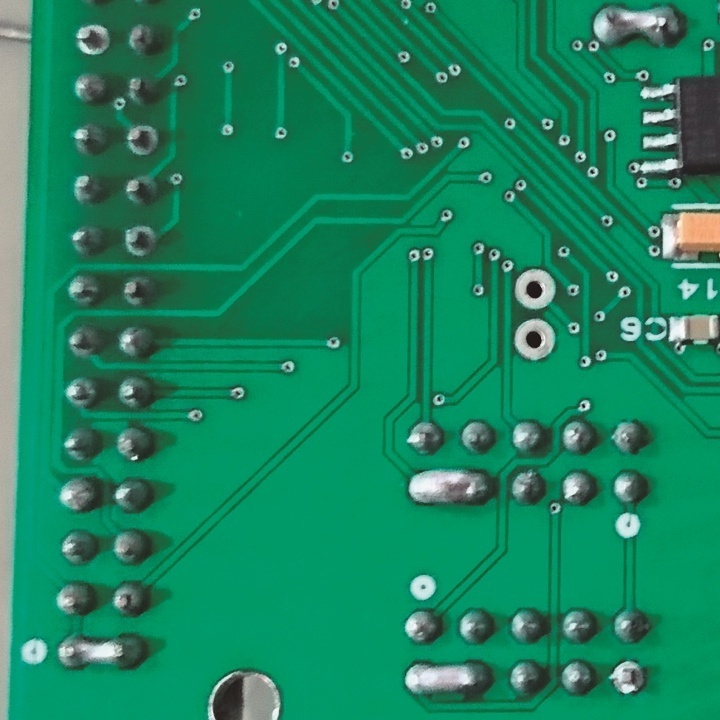F: (510, 318, 558, 366), (513, 266, 559, 313), (70, 21, 114, 59), (610, 658, 648, 698), (121, 223, 157, 259), (125, 123, 159, 160)
P: (593, 2, 687, 49), (403, 657, 491, 701), (54, 635, 145, 675), (406, 466, 494, 506)
